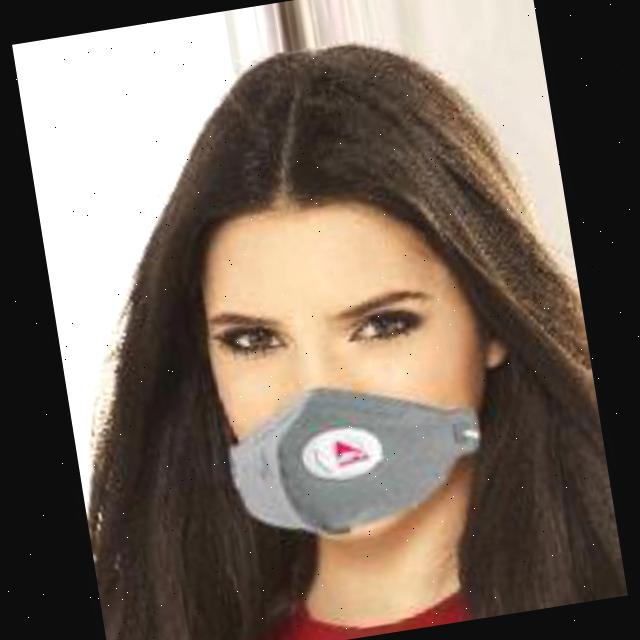suspicion: (153, 114, 522, 587)
